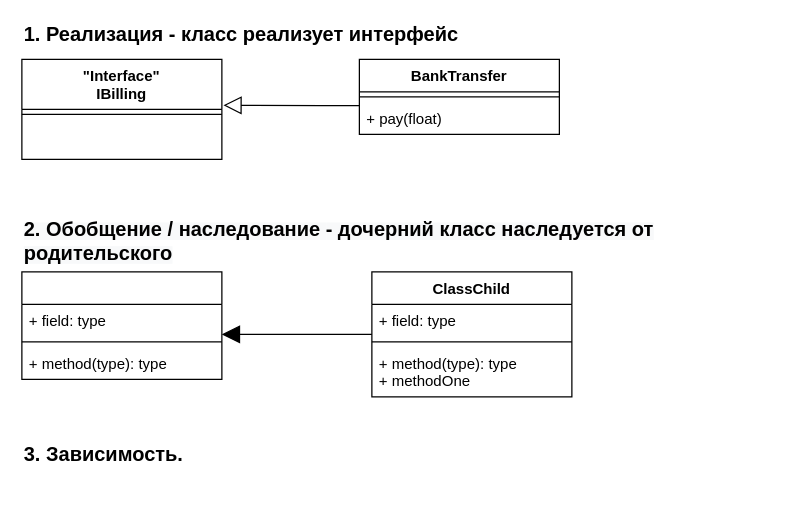
The diagram is 794 pixels wide and 511 high, and some of its shapes have lost their labels. The box of each missing label's shape, as (x1, y1, x2, y2) in pixels:
+ abstract pay(float): (21, 58, 222, 159)
ClassParent: (21, 271, 222, 379)
